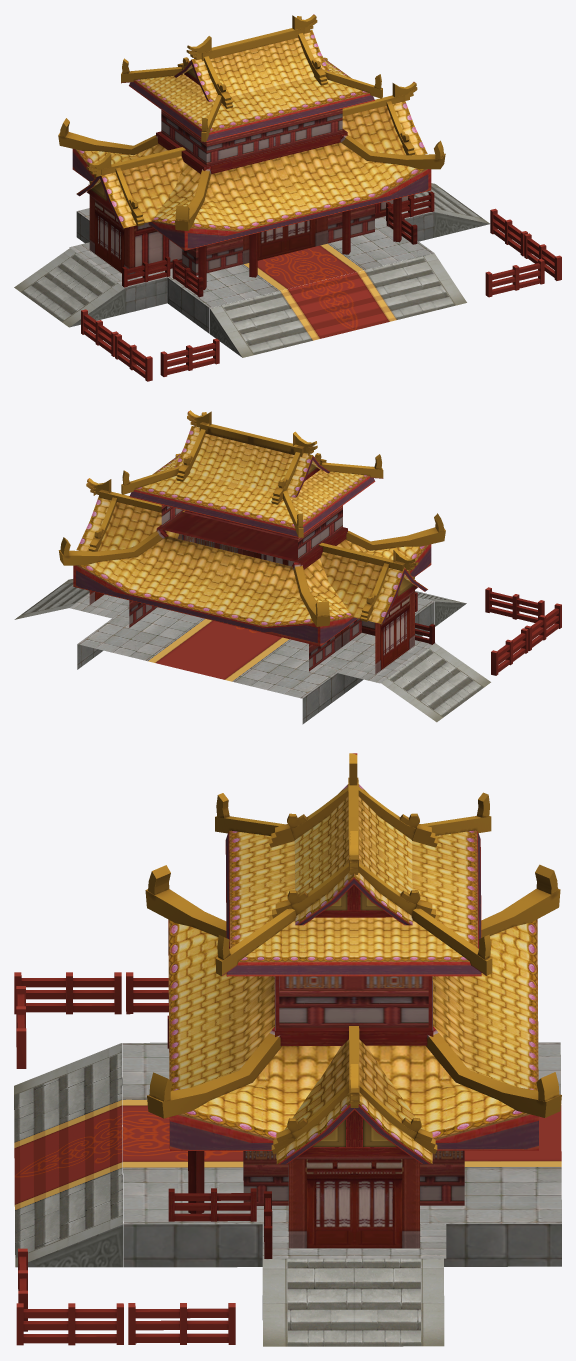
File: 3k_map_shop.FBX
The picture shows the model from 3 angles, top to bottom: view 1: azimuth 30°, elevation 25°; view 2: azimuth 150°, elevation 25°; view 3: azimuth 270°, elevation 25°; orthographic projection. The views are drawn at different scales.
Parts seen in each view (by area): view 1: 3k_map_shop, 3k_map_pedestal01; view 2: 3k_map_shop, 3k_map_pedestal01; view 3: 3k_map_shop, 3k_map_pedestal01.
Boxes of the visible parts, left/top/right/bottom form: 3k_map_shop: left=58, top=14, right=445, bottom=297; 3k_map_pedestal01: left=14, top=183, right=561, bottom=381; 3k_map_shop: left=58, top=410, right=445, bottom=674; 3k_map_pedestal01: left=14, top=579, right=561, bottom=724; 3k_map_shop: left=145, top=753, right=561, bottom=1258; 3k_map_pedestal01: left=14, top=972, right=561, bottom=1346.
Size of the model in its own units: 3091 by 1607 by 2100.
